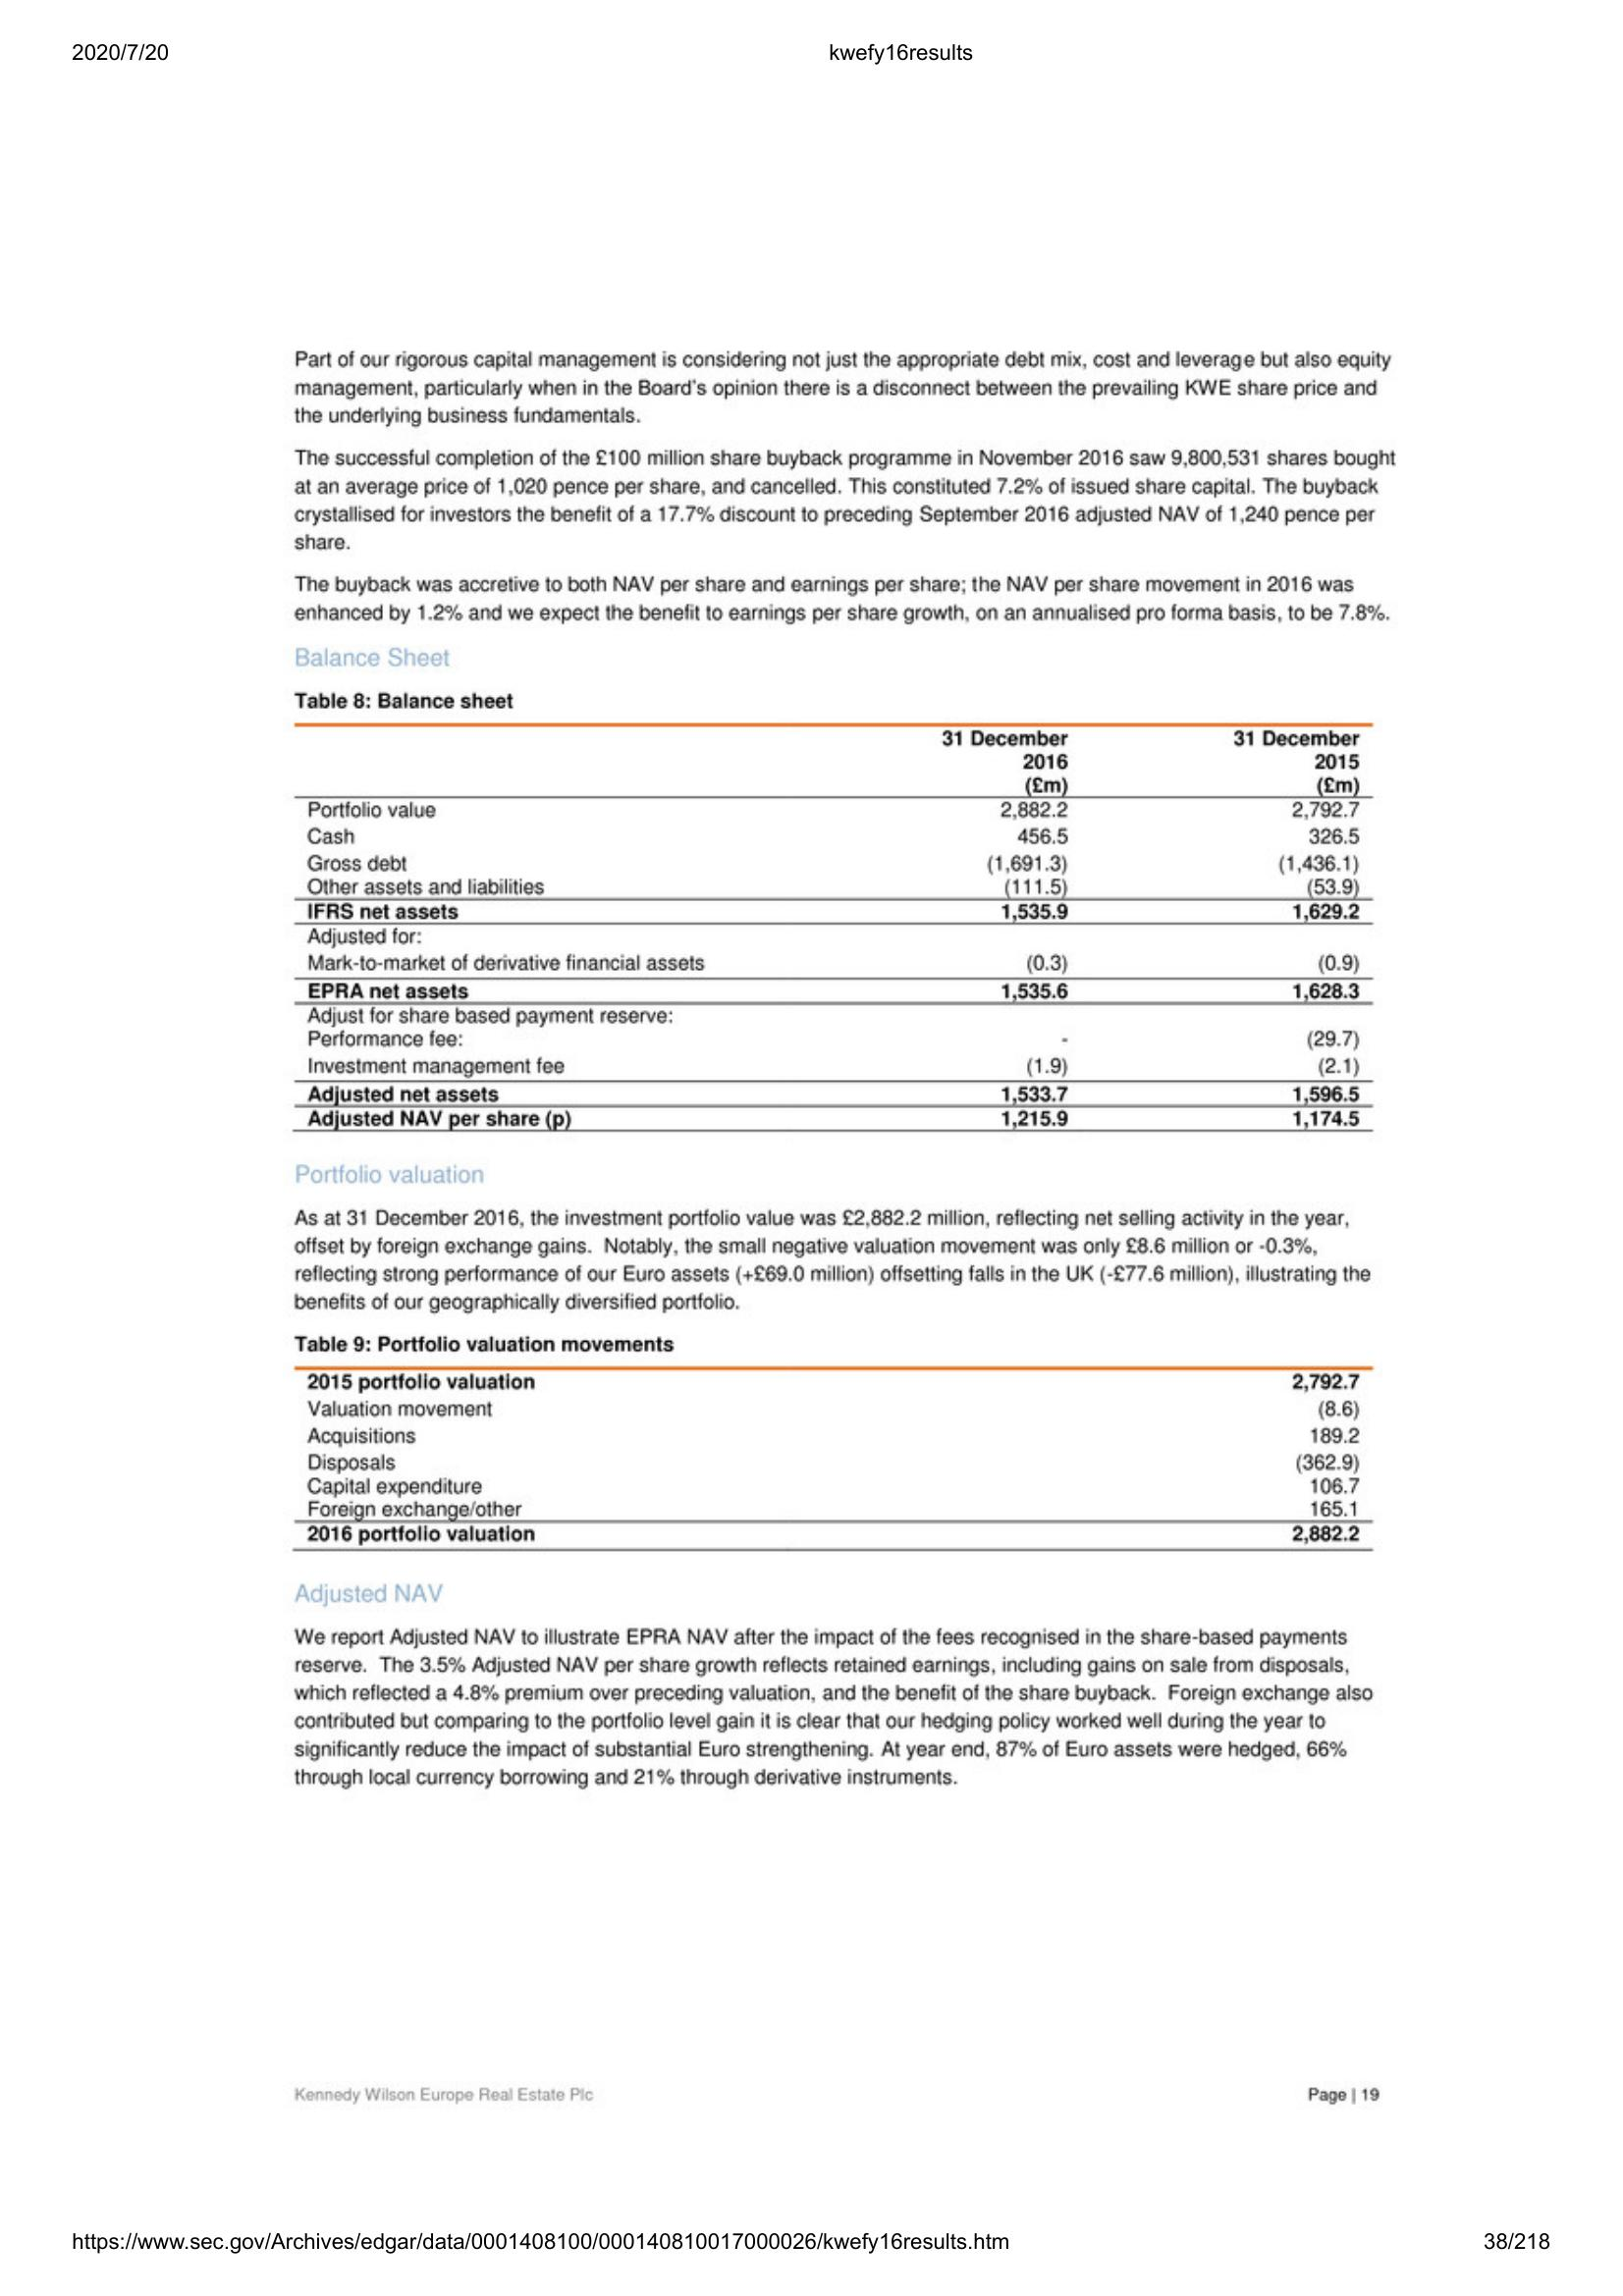table: (292, 707, 1372, 1134), (290, 1355, 1381, 1561)
